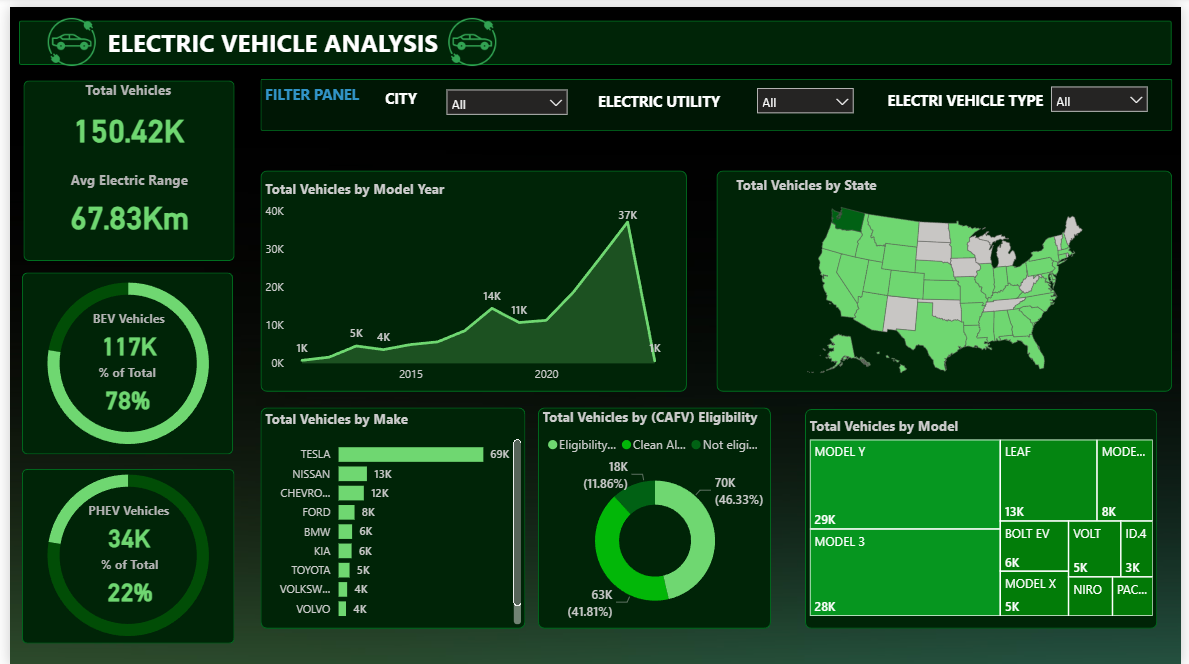

What the dashboard file says about the page in this screenshot:
{"tool":"powerbi","page":{"name":"Page 1","canvas":[1280,720],"ordinal":0},"visuals":[{"type":"shape","box":[10.1,14.2,1259.7,48.6],"z":0},{"type":"textbox","box":[273.4,79,129.6,42.5],"z":1000},{"type":"shape","box":[14.3,79.5,230.6,197.2],"z":2000},{"type":"card","title":"Total Vehicles","fields":{"Values":["Electric_Vehicle_Population_Data.Total Vehicles"]},"box":[15.9,79.5,225.9,84.3],"z":3000},{"type":"card","title":"Avg Electric Range","fields":{"Values":["Electric_Vehicle_Population_Data.Avg Range"]},"box":[18.2,178.2,224.8,77],"z":4000},{"type":"shape","box":[12.7,289.5,230.6,198.8],"z":5000},{"type":"shape","box":[12.7,504.2,232.2,190.9],"z":6000},{"type":"donutChart","fields":{"Category":["Electric_Vehicle_Population_Data.Electric Vehicle Type"],"Y":["Electric_Vehicle_Population_Data.Total Vehicles"]},"box":[0,273.6,257.7,230.6],"z":7000},{"type":"card","title":"BEV Vehicles","fields":{"Values":["Electric_Vehicle_Population_Data.BEV Vehicles"]},"box":[57.3,330.8,144.7,58.9],"z":8000},{"type":"card","title":"% of Total","fields":{"Values":["Electric_Vehicle_Population_Data.% of BEV"]},"box":[55.7,389.7,144.7,58.9],"z":9000},{"type":"donutChart","fields":{"Category":["Electric_Vehicle_Population_Data.Electric Vehicle Type"],"Y":["Electric_Vehicle_Population_Data.Total Vehicles"]},"box":[0,483.5,257.7,230.6],"z":10000},{"type":"card","title":"PHEV Vehicles","fields":{"Values":["Electric_Vehicle_Population_Data.PHEV Vehicles"]},"box":[57.3,540.8,144.7,58.9],"z":11000},{"type":"card","title":"% of Total","fields":{"Values":["Electric_Vehicle_Population_Data.% of PHEV"]},"box":[58.7,599.5,143.8,58.7],"z":12000},{"type":"shape","box":[273.4,79,996.5,56.7],"z":13000},{"type":"shape","box":[273.6,178.1,466,241.8],"z":14000},{"type":"areaChart","fields":{"Category":["Electric_Vehicle_Population_Data.Model Year"],"Y":["Electric_Vehicle_Population_Data.Total Vehicles"]},"box":[273.6,189.3,448.6,230.6],"z":15000},{"type":"shape","box":[771.4,178.1,497.9,241.8],"z":16000},{"type":"shapeMap","fields":{"Category":["Electric_Vehicle_Population_Data.State"],"Value":["Electric_Vehicle_Population_Data.Total Vehicles"]},"box":[787.8,184.3,465.8,230.9],"z":17000},{"type":"shape","box":[273.6,437.4,289.5,241.8],"z":18000},{"type":"barChart","fields":{"Category":["Electric_Vehicle_Population_Data.Make"],"Y":["Electric_Vehicle_Population_Data.Total Vehicles"]},"box":[273.6,439,289.5,240.2],"z":19000},{"type":"shape","box":[577.4,437.4,254.5,241.8],"z":20000},{"type":"donutChart","title":"Total Vehicles by (CAFV) Eligibility","fields":{"Category":["Electric_Vehicle_Population_Data.Clean Alternative Fuel Vehicle (CAFV) Eligibility"],"Y":["Electric_Vehicle_Population_Data.Total Vehicles"]},"box":[577.2,437.5,255.2,241],"z":21000},{"type":"shape","box":[868.5,439,384.9,240.2],"z":22000},{"type":"treemap","fields":{"Group":["Electric_Vehicle_Population_Data.Model"],"Values":["Electric_Vehicle_Population_Data.Total Vehicles"]},"box":[868.5,447,384.9,222.7],"z":23000},{"type":"textbox","box":[101.3,14.2,405.1,48.6],"z":24000},{"type":"slicer","fields":{"Values":["Electric_Vehicle_Population_Data.City"]},"box":[467.8,81,151.9,42.5],"z":24001},{"type":"textbox","box":[405.1,83,62.8,36.5],"z":24002},{"type":"slicer","fields":{"Values":["Electric_Vehicle_Population_Data.Electric Utility"]},"box":[806.1,79,125.6,42.5],"z":24003},{"type":"textbox","box":[638,87.1,202.5,34.4],"z":24004},{"type":"slicer","fields":{"Values":["Electric_Vehicle_Population_Data.Electric Vehicle Type"]},"box":[1128.1,77,125.6,42.5],"z":24005},{"type":"textbox","box":[953.9,85.1,194.4,34.4],"z":24006},{"type":"image","box":[10.1,6.1,115.4,62.8],"z":24007},{"type":"image","box":[447.6,6.1,115.4,62.8],"z":24008}]}

Visuals, with their boxes in screenshot pixels (x1, y1, x2, y2), scaled from the page's 1280x720 canvas onto the 1189x664 screenshot:
shape: 9:13:1180:58
textbox: 254:73:374:112
shape: 13:73:227:255
"Total Vehicles" card: 15:73:225:151
"Avg Electric Range" card: 17:164:226:235
shape: 12:267:226:450
shape: 12:465:227:641
donutChart - Electric_Vehicle_Population_Data.Electric Vehicle Type x Electric_Vehicle_Population_Data.Total Vehicles: 0:252:239:465
"BEV Vehicles" card: 53:305:188:359
"% of Total" card: 52:359:186:414
donutChart - Electric_Vehicle_Population_Data.Electric Vehicle Type x Electric_Vehicle_Population_Data.Total Vehicles: 0:446:239:659
"PHEV Vehicles" card: 53:499:188:553
"% of Total" card: 55:553:188:607
shape: 254:73:1180:125
shape: 254:164:687:387
areaChart - Electric_Vehicle_Population_Data.Model Year x Electric_Vehicle_Population_Data.Total Vehicles: 254:175:671:387
shape: 717:164:1179:387
shapeMap - Electric_Vehicle_Population_Data.State x Electric_Vehicle_Population_Data.Total Vehicles: 732:170:1164:383
shape: 254:403:523:626
barChart - Electric_Vehicle_Population_Data.Make x Electric_Vehicle_Population_Data.Total Vehicles: 254:405:523:626
shape: 536:403:773:626
"Total Vehicles by (CAFV) Eligibility" donutChart: 536:403:773:626
shape: 807:405:1164:626
treemap - Electric_Vehicle_Population_Data.Model x Electric_Vehicle_Population_Data.Total Vehicles: 807:412:1164:618
textbox: 94:13:470:58
slicer - Electric_Vehicle_Population_Data.City: 435:75:576:114
textbox: 376:77:435:110
slicer - Electric_Vehicle_Population_Data.Electric Utility: 749:73:865:112
textbox: 593:80:781:112
slicer - Electric_Vehicle_Population_Data.Electric Vehicle Type: 1048:71:1165:110
textbox: 886:78:1067:110
image: 9:6:117:64
image: 416:6:523:64
